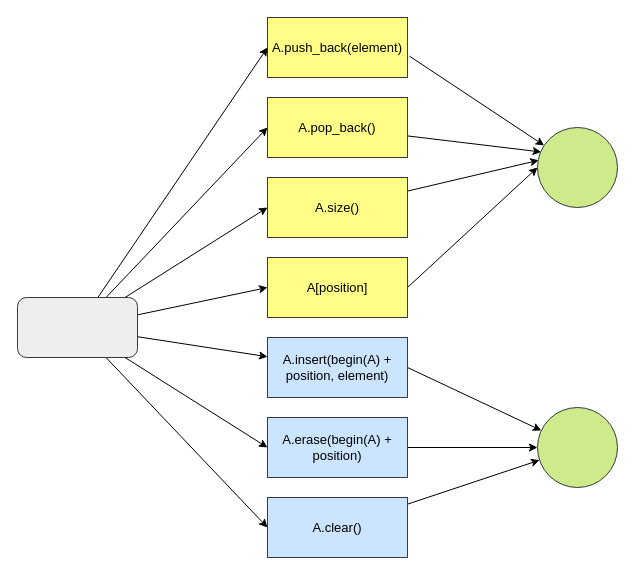
Image size: 635x575. Some labels were removed from this diagram. The shapes that lost their labels are listed below. From the top down, each one's centre as x and y in pixels, then its label:
[577,167]: O(1)
[77,327]: vector
[577,447]: O(n)
